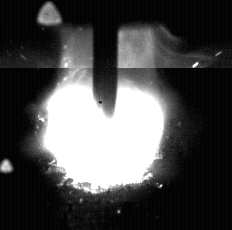arame: (94, 0, 118, 118)
poca: (42, 0, 166, 230)
